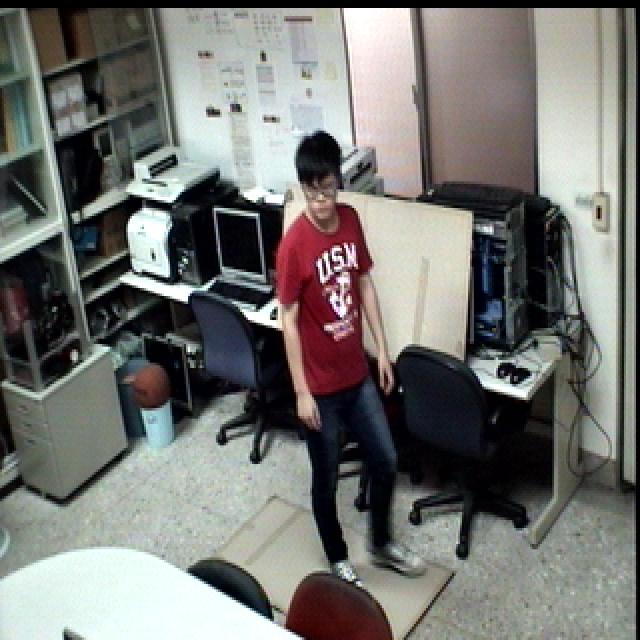stand: (270, 124, 431, 603)
